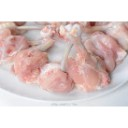chicken_lollipop: (1, 34, 54, 86), (72, 34, 107, 93), (46, 37, 74, 99), (89, 22, 128, 59)
